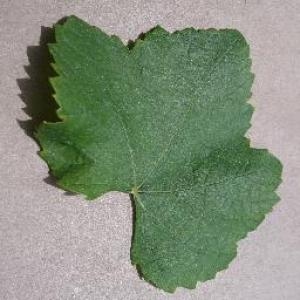Folha: (28, 13, 284, 294)
